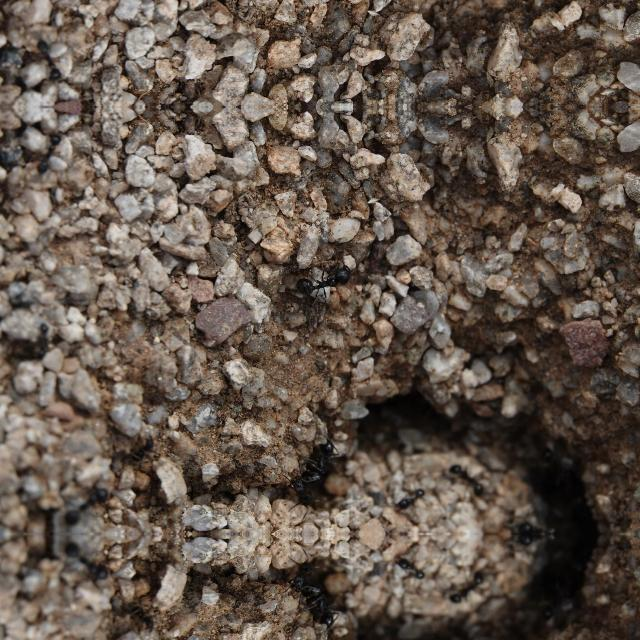Messor: (55, 482, 113, 526), (55, 541, 113, 585), (293, 266, 352, 300), (443, 462, 489, 498), (443, 569, 489, 605), (306, 582, 340, 626), (306, 442, 340, 484), (30, 318, 54, 364), (396, 486, 430, 508), (396, 559, 430, 581)
